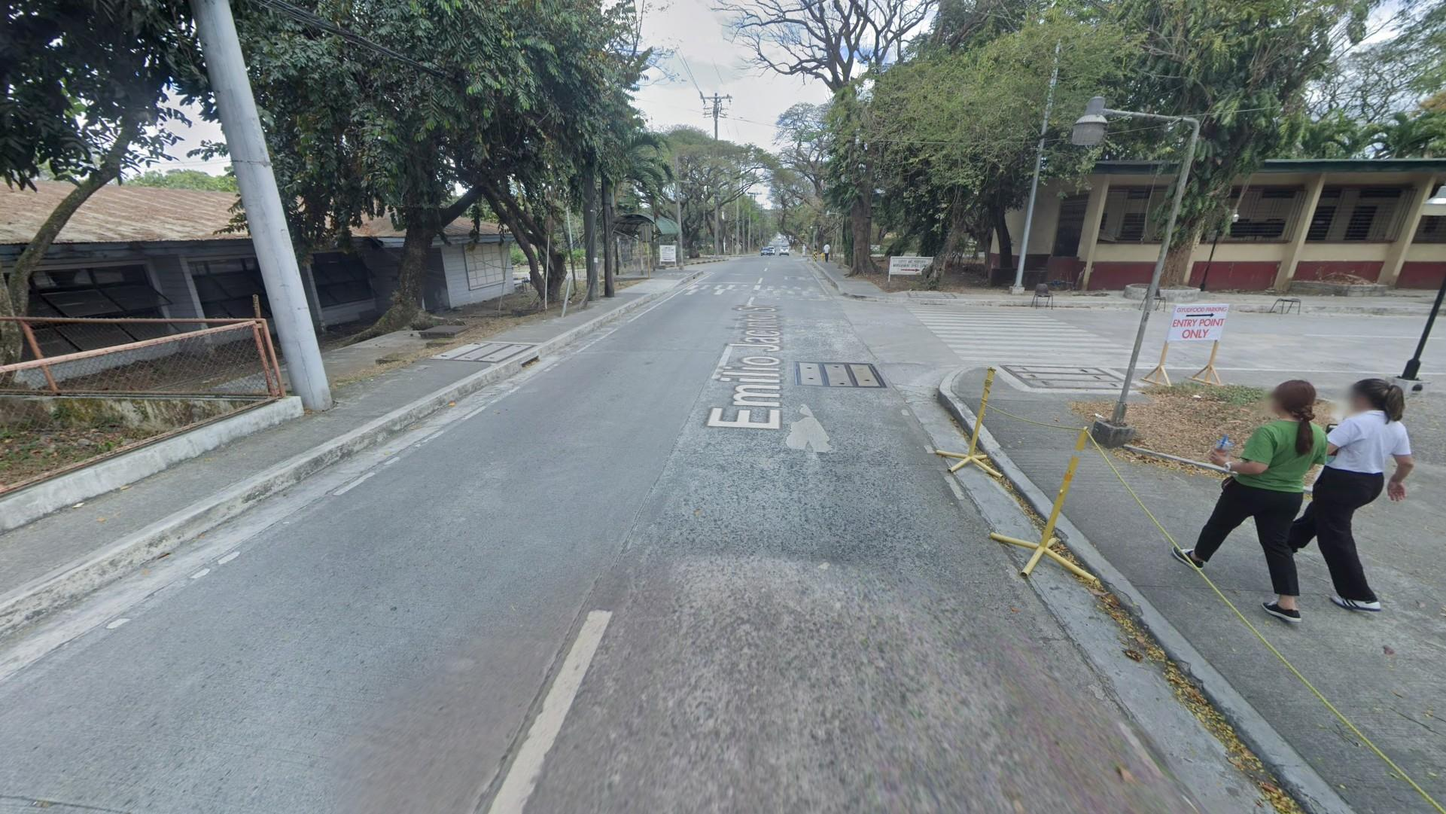pedestrian: (1173, 374, 1329, 625), (1266, 377, 1414, 612), (823, 241, 832, 263), (802, 244, 807, 256)
